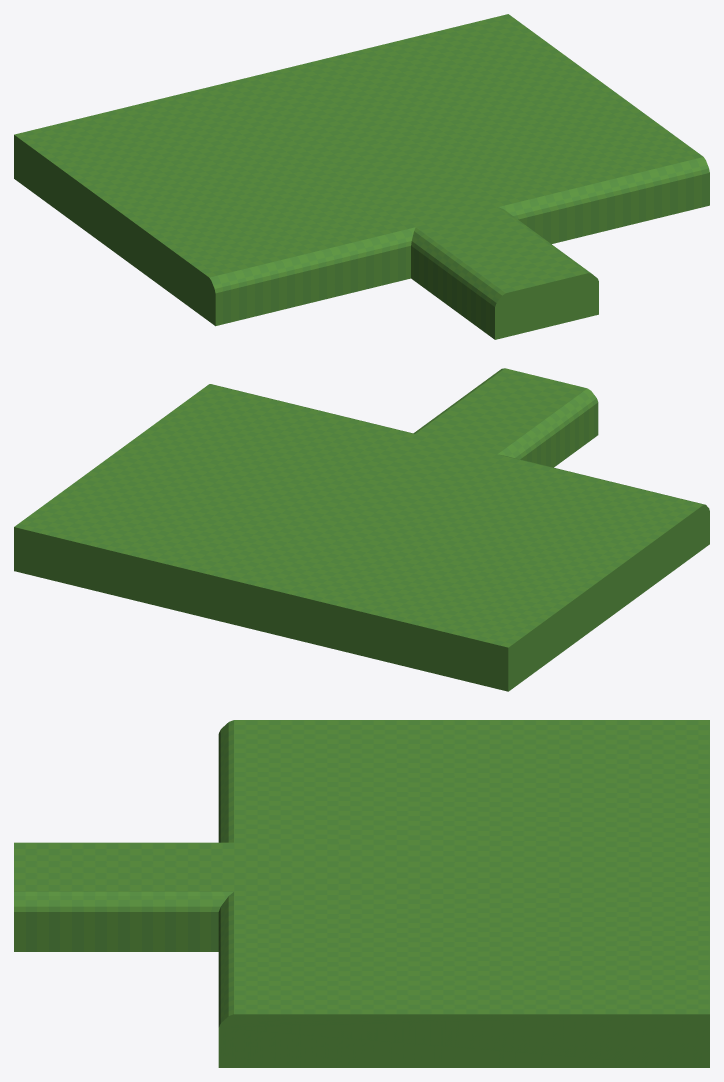
The model's file is ChurchnewGround.fbx.
The picture shows the model from 3 angles, top to bottom: view 1: azimuth 30°, elevation 25°; view 2: azimuth 150°, elevation 25°; view 3: azimuth 270°, elevation 25°; orthographic projection. The views are drawn at different scales.
Visible parts, largest first — view 1: Ground; view 2: Ground; view 3: Ground.
Part boxes in pixels (left/top/right/bottom): Ground: left=14, top=14, right=709, bottom=339; Ground: left=14, top=368, right=709, bottom=691; Ground: left=14, top=720, right=709, bottom=1067.
Bounding box in the file's own units: 200 × 17.04 × 200.
